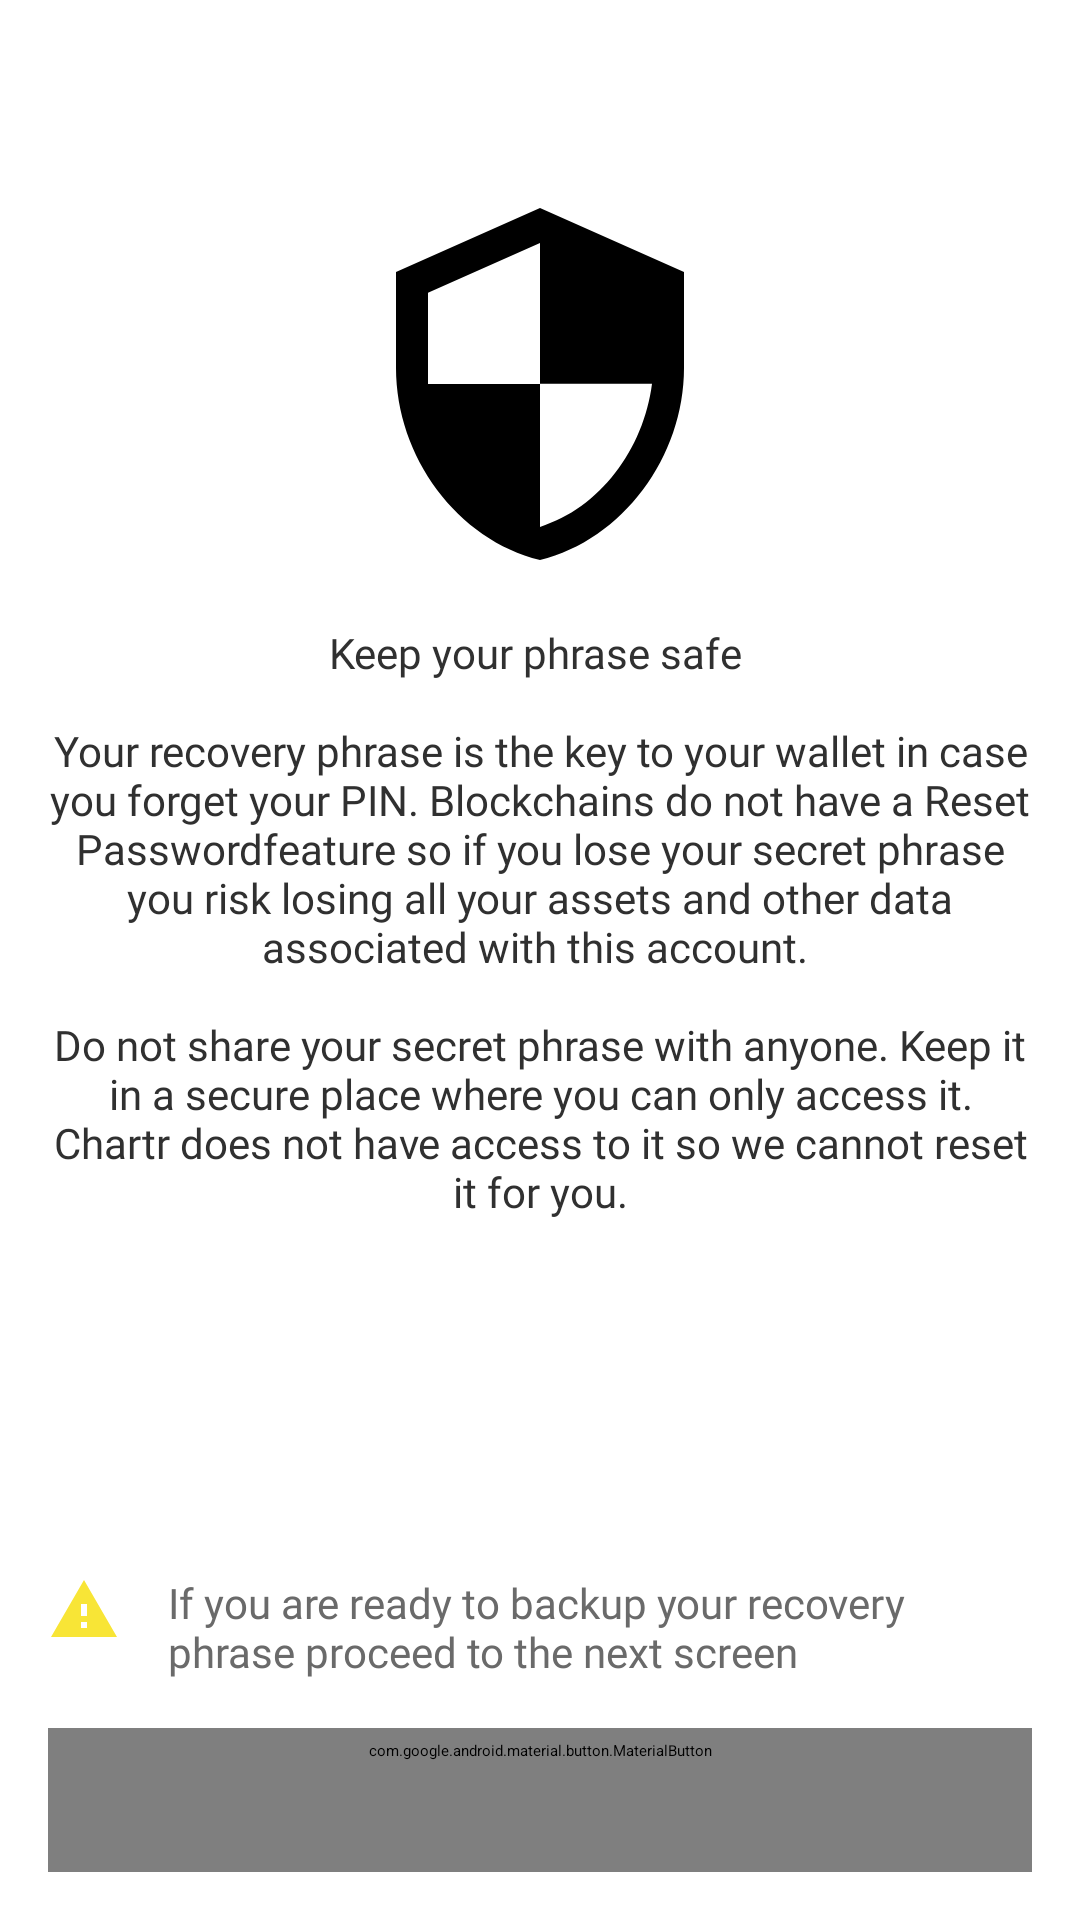

Screen size 1080px×1920px. Icon name, then its center in pixels as point (x, y):
shield: point (540, 384)
warning: point (84, 1608)
